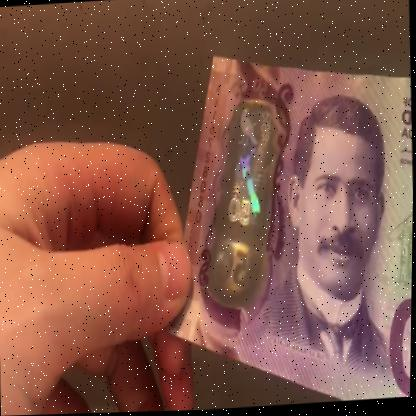50F: (211, 105, 281, 291)
